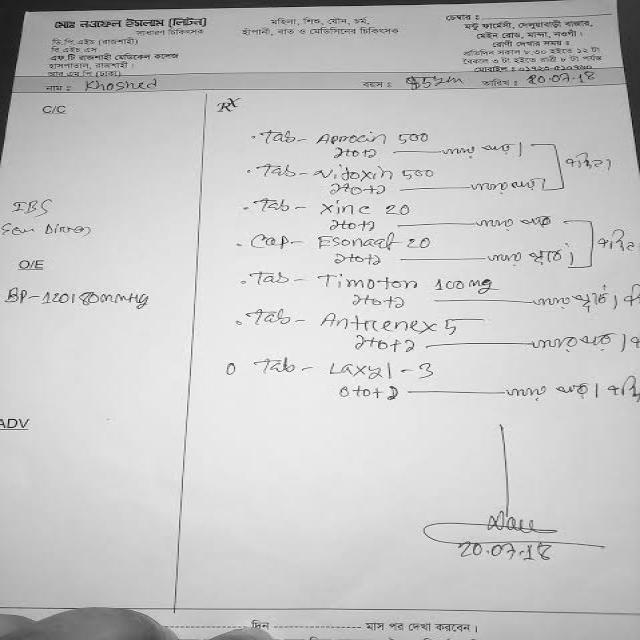medicine: (315, 309, 441, 336), (314, 268, 424, 296), (313, 232, 399, 254), (310, 164, 400, 184), (321, 360, 398, 383), (311, 128, 394, 149), (317, 198, 379, 218)
